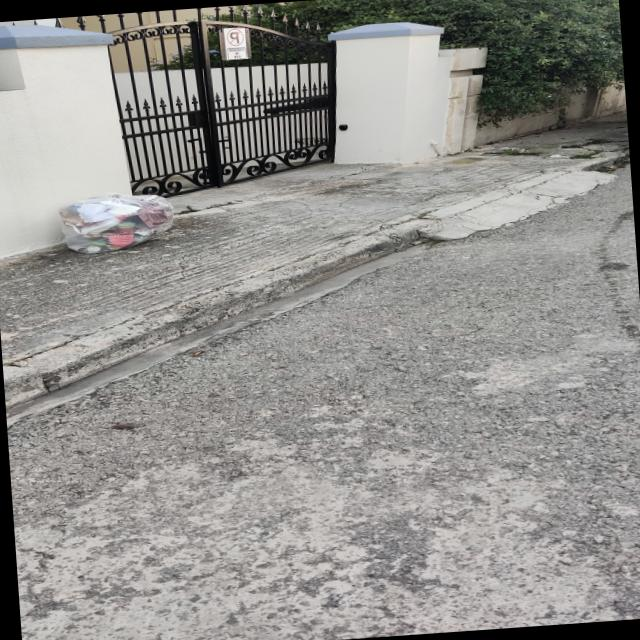Recyclable Material -Grey Bags-: (49, 190, 179, 257)
